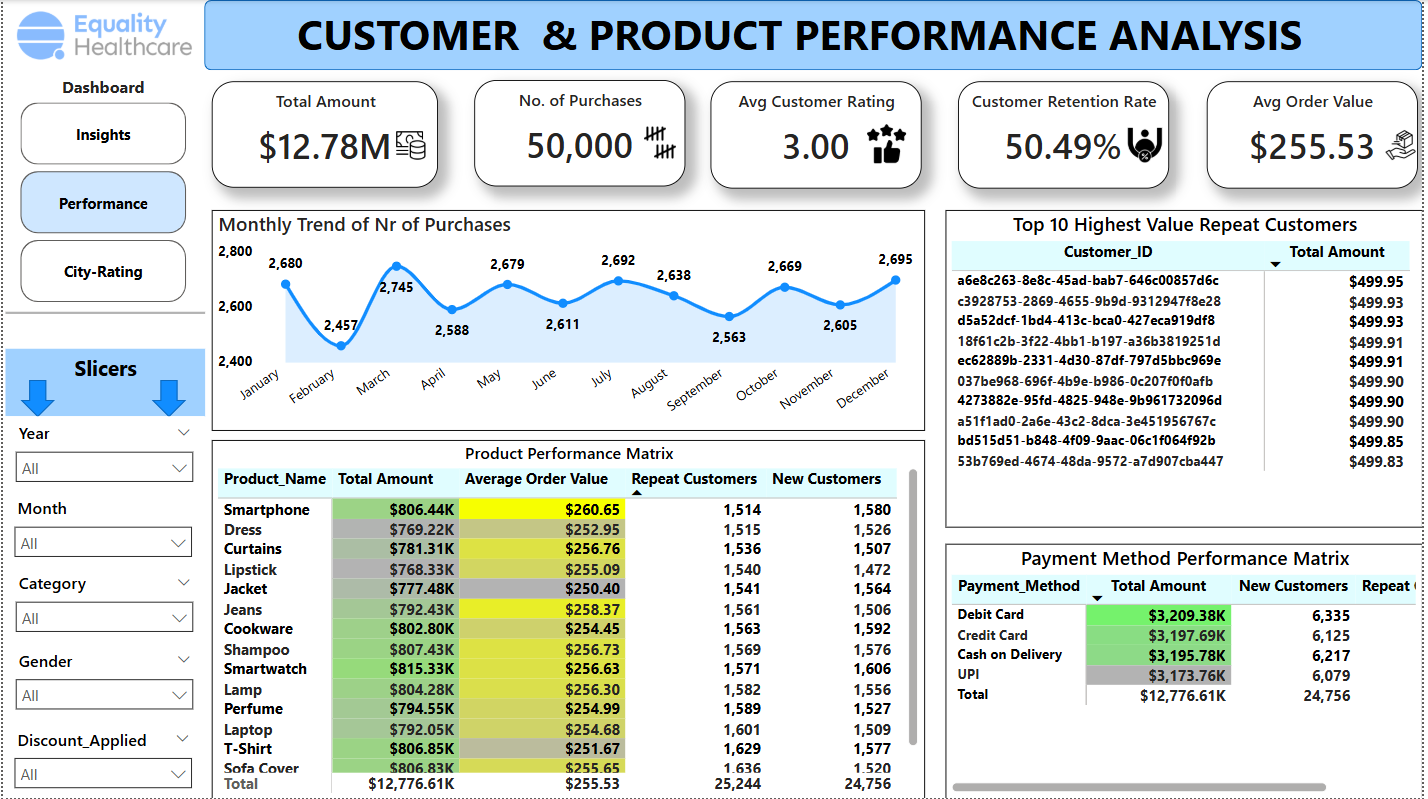

Layout of this report page (visuals, bound fields, positions):
{"tool":"powerbi","page":{"name":"Customer &  Product Performance","canvas":[1280,720],"ordinal":1},"visuals":[{"type":"card","title":"Avg Order Value","fields":{"Values":["Measure Folder.Average Order Value"]},"box":[1084.8,73.2,190,97],"z":0,"group":"g5"},{"type":"shape","box":[181.6,0,1098.4,63.4],"z":1000},{"type":"group","id":"g1","title":"Group 4","box":[424.4,72.1,190.3,95.8],"z":1000,"group":"g5"},{"type":"group","id":"g2","title":"Group 5","box":[187.8,73.2,204,95.8],"z":2000,"group":"g5"},{"type":"shape","box":[2.5,272.4,180.4,18.7],"z":2000},{"type":"textbox","box":[260,0,952.9,63.4],"z":3000},{"type":"group","id":"g3","title":"Group 1","box":[637.3,73.2,190,96.5],"z":3000,"group":"g5"},{"type":"group","id":"g4","title":"Group 2","box":[861,73.2,190.2,96.5],"z":4000,"group":"g5"},{"type":"textbox","box":[2.5,314.7,180.4,61],"z":4000},{"type":"lineChart","title":"Monthly Trend of No of  Purchases","fields":{"Y":["Measure Folder.Nr of Purchase"],"Category":["data.Month"]},"box":[187.8,189.1,643.1,199],"z":5000},{"type":"shape","box":[16.2,342.1,31.1,33.6],"z":6000},{"type":"card","title":"Total Amount","fields":{"Values":["Measure Folder.Total Purchase Amount"]},"box":[187.8,73.2,204,95.8],"z":7000,"group":"g2"},{"type":"pivotTable","title":"Product Performance Matrix","fields":{"Rows":["data.Product_Name"],"Values":["Measure Folder.Total Purchase Amount","Measure Folder.Average Order Value","Measure Folder.Repeat Customers","Measure Folder.New Customers"]},"box":[188.4,396.5,643,324.4],"z":7000},{"type":"card","title":"No. of Purchases","fields":{"Values":["Measure Folder.Nr of Purchase"]},"box":[424.4,72.1,190,96],"z":8000,"group":"g1"},{"type":"shape","box":[134.3,342.1,31.1,33.6],"z":8000},{"type":"pivotTable","title":"Top 10 Highest Value Repeat Customers","fields":{"Rows":["data.Customer_ID"],"Values":["Measure Folder.Total Purchase Amount"]},"box":[849.6,189.1,430.4,286.1],"z":9000},{"type":"pivotTable","title":"Payment Method  Performance Matrix","fields":{"Values":["Measure Folder.Total Purchase Amount","Measure Folder.New Customers","Measure Folder.Repeat Customers"],"Rows":["data.Payment_Method"]},"box":[849.6,490.1,430.4,230.1],"z":10000},{"type":"image","box":[1.2,0,180.4,63.4],"z":11000},{"type":"card","title":"Avg Customer Rating","fields":{"Values":["data.Avg Customer Rating"]},"box":[637.3,73.2,190,96.5],"z":11000,"group":"g3"},{"type":"slicer","fields":{"Values":["data.Year"]},"box":[1.2,375.7,180.4,64.7],"z":12000},{"type":"slicer","fields":{"Values":["data.Month Name"]},"box":[0,443.4,180.4,64.7],"z":13000},{"type":"slicer","fields":{"Values":["data.Category"]},"box":[1.2,511.1,180.4,65.9],"z":14000},{"type":"card","title":"Customer Retention Rate","fields":{"Values":["data.Customer Retention Rate"]},"box":[861,73.2,190,96.5],"z":15000,"group":"g4"},{"type":"slicer","fields":{"Values":["data.Gender"]},"box":[1.2,580.1,180.4,68.4],"z":15000},{"type":"slicer","fields":{"Values":["data.Discount_Applied"]},"box":[0,651.6,180.4,68.4],"z":16000},{"type":"textbox","box":[16.2,63.4,149.3,31.1],"z":17000},{"type":"group","id":"g5","title":"Group 3","box":[187.8,72.1,1087.2,98.3],"z":18000},{"type":"image","box":[1241.4,112,38.6,38.6],"z":19000},{"type":"actionButton","title":"Insihts","box":[16.2,216.4,149.3,56],"z":20000},{"type":"actionButton","title":"Insihts","box":[16.2,154.3,149.3,56],"z":21000},{"type":"actionButton","title":"Insihts","box":[16.2,92.1,149.3,56],"z":22000},{"type":"image","box":[568.7,109.4,46,38.6],"z":23004,"group":"g1"},{"type":"image","box":[343.3,108,48.5,44.8],"z":23006,"group":"g2"},{"type":"image","box":[1007.6,110.6,43.5,41.1],"z":26000,"group":"g4"},{"type":"image","box":[773.8,104.4,44.8,49.8],"z":27000,"group":"g3"}]}

Visuals, with their boxes in screenshot pixels (x1, y1, x2, y2), scaled from the page's 1280x720 canvas onto the 1428x799 screenshot:
"Avg Order Value" card: 1210,81,1422,189
shape: 203,0,1427,70
"Group 4" group: 473,80,686,186
"Group 5" group: 210,81,437,188
shape: 3,302,204,323
textbox: 290,0,1353,70
"Group 1" group: 711,81,923,188
"Group 2" group: 961,81,1173,188
textbox: 3,349,204,417
"Monthly Trend of No of  Purchases" lineChart: 210,210,927,431
shape: 18,380,53,417
"Total Amount" card: 210,81,437,188
"Product Performance Matrix" pivotTable: 210,440,928,798
"No. of Purchases" card: 473,80,685,187
shape: 150,380,185,417
"Top 10 Highest Value Repeat Customers" pivotTable: 948,210,1427,527
"Payment Method  Performance Matrix" pivotTable: 948,544,1427,798
image: 1,0,203,70
"Avg Customer Rating" card: 711,81,923,188
slicer - data.Year: 1,417,203,489
slicer - data.Month Name: 0,492,201,564
slicer - data.Category: 1,567,203,640
"Customer Retention Rate" card: 961,81,1173,188
slicer - data.Gender: 1,644,203,720
slicer - data.Discount_Applied: 0,723,201,798
textbox: 18,70,185,105
"Group 3" group: 210,80,1422,189
image: 1385,124,1427,167
"Insihts" actionButton: 18,240,185,302
"Insihts" actionButton: 18,171,185,233
"Insihts" actionButton: 18,102,185,164
image: 634,121,686,164
image: 383,120,437,170
image: 1124,123,1173,168
image: 863,116,913,171
